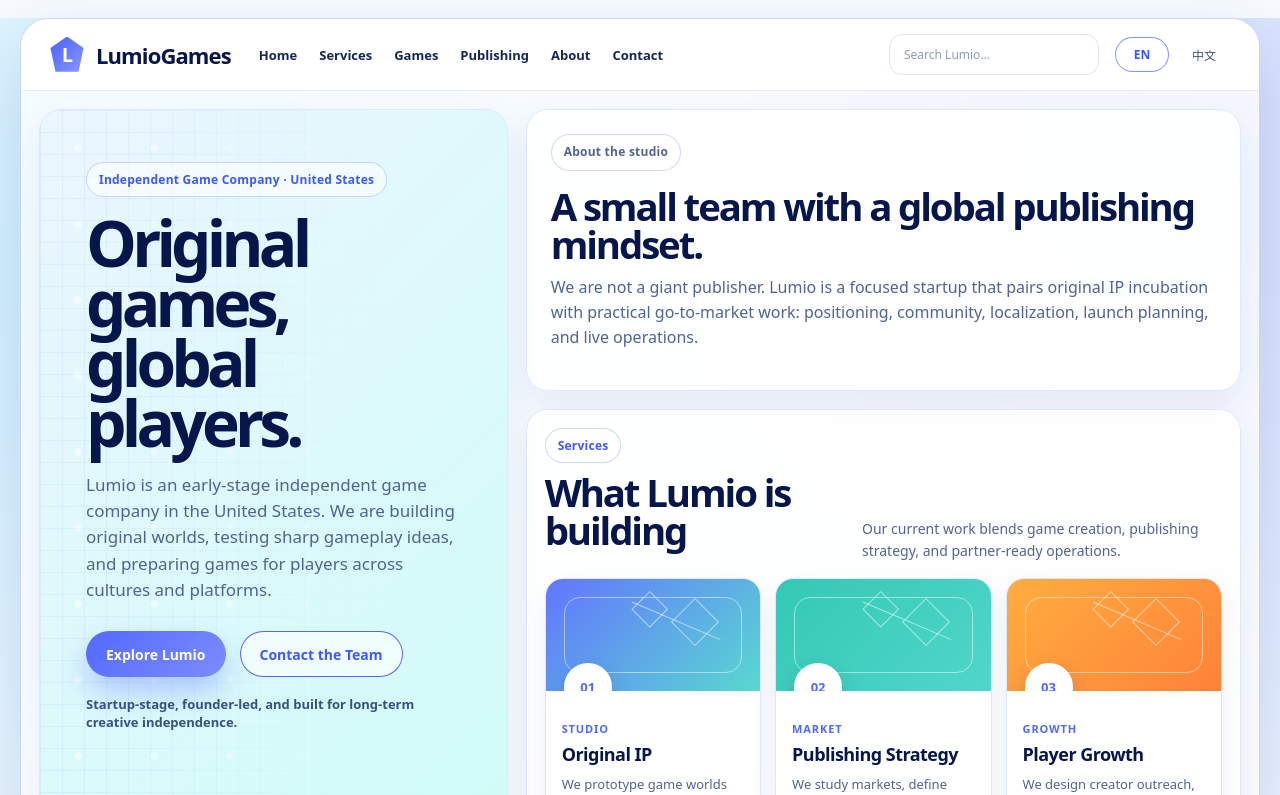
it: switches key visible copy to Chinese
Click the button "中文". click: click(1204, 54)
box: [1177,36,1231,72]
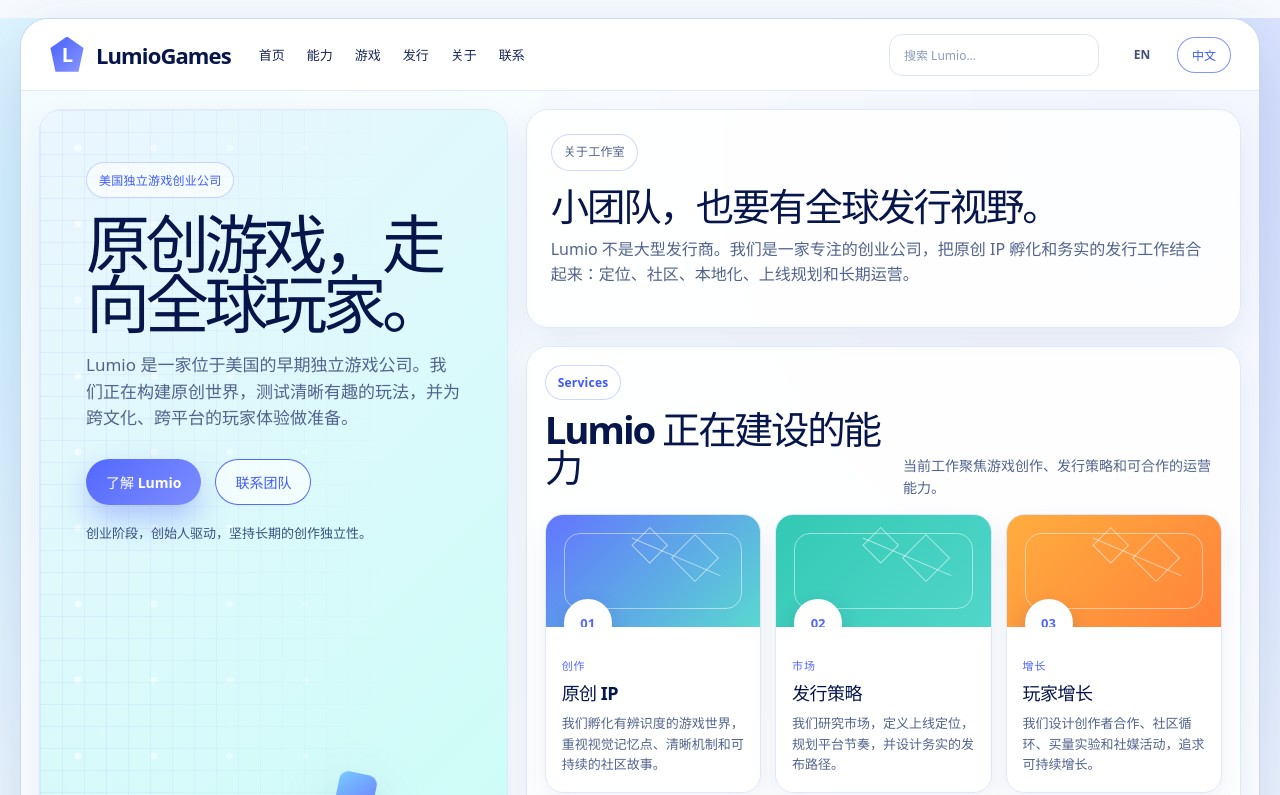
Check: the heading "原创游戏，走向全球玩家。" is shown, box [86,214,461,334]
Check: the text "美国独立游戏创业公司" is shown, box [86,162,234,198]
